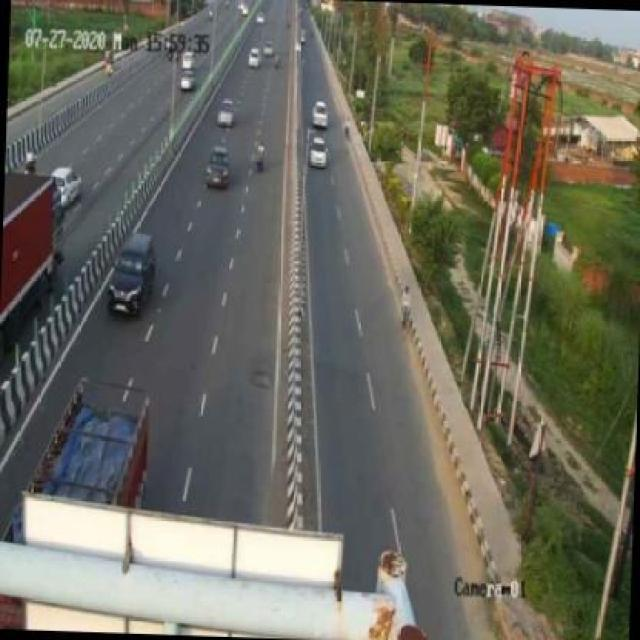car: (103, 228, 162, 318), (57, 166, 86, 208), (205, 149, 232, 191), (304, 97, 330, 135), (309, 134, 331, 171), (216, 97, 236, 134)
